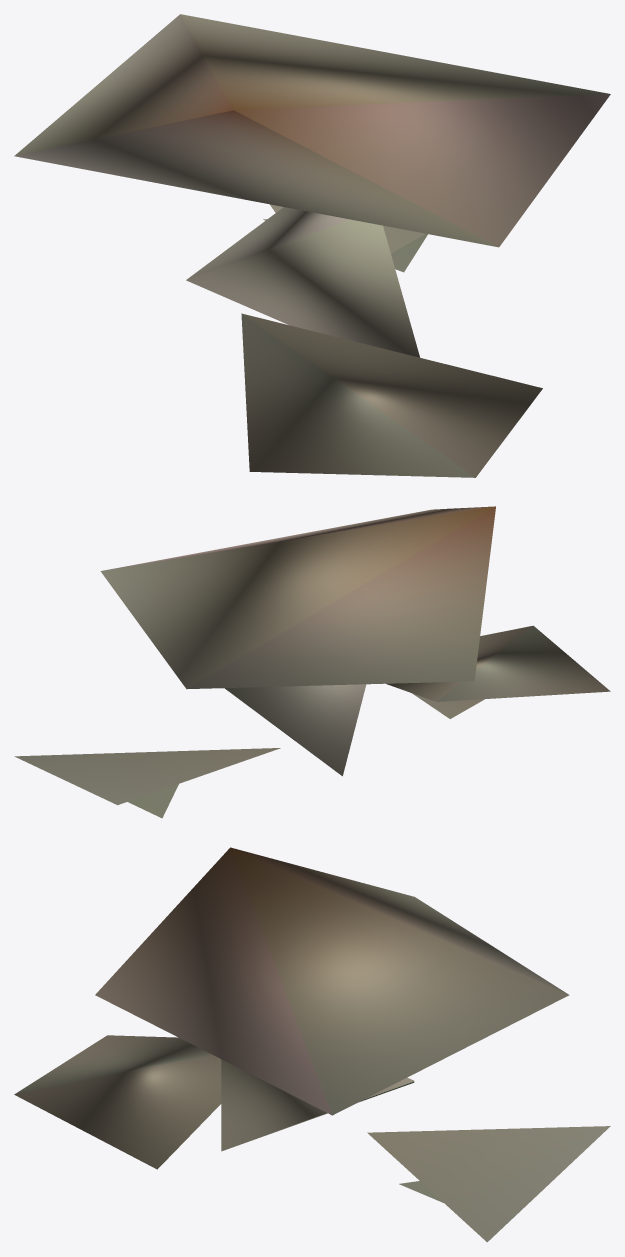
The model's file is mushroom_bk_foret_broceliande_0004.glb.
The picture shows the model from 3 angles, top to bottom: view 1: azimuth 30°, elevation 25°; view 2: azimuth 150°, elevation 25°; view 3: azimuth 270°, elevation 25°; orthographic projection. The views are drawn at different scales.
Parts seen in each view (by area): view 1: mushroom_bk_004; view 2: mushroom_bk_004; view 3: mushroom_bk_004.
Part boxes in pixels (bbox=[...]): mushroom_bk_004: bbox=[14, 14, 610, 477]; mushroom_bk_004: bbox=[14, 506, 610, 818]; mushroom_bk_004: bbox=[14, 847, 610, 1242].
Size of the model in its own units: 0.7267 by 0.4 by 0.9179.
